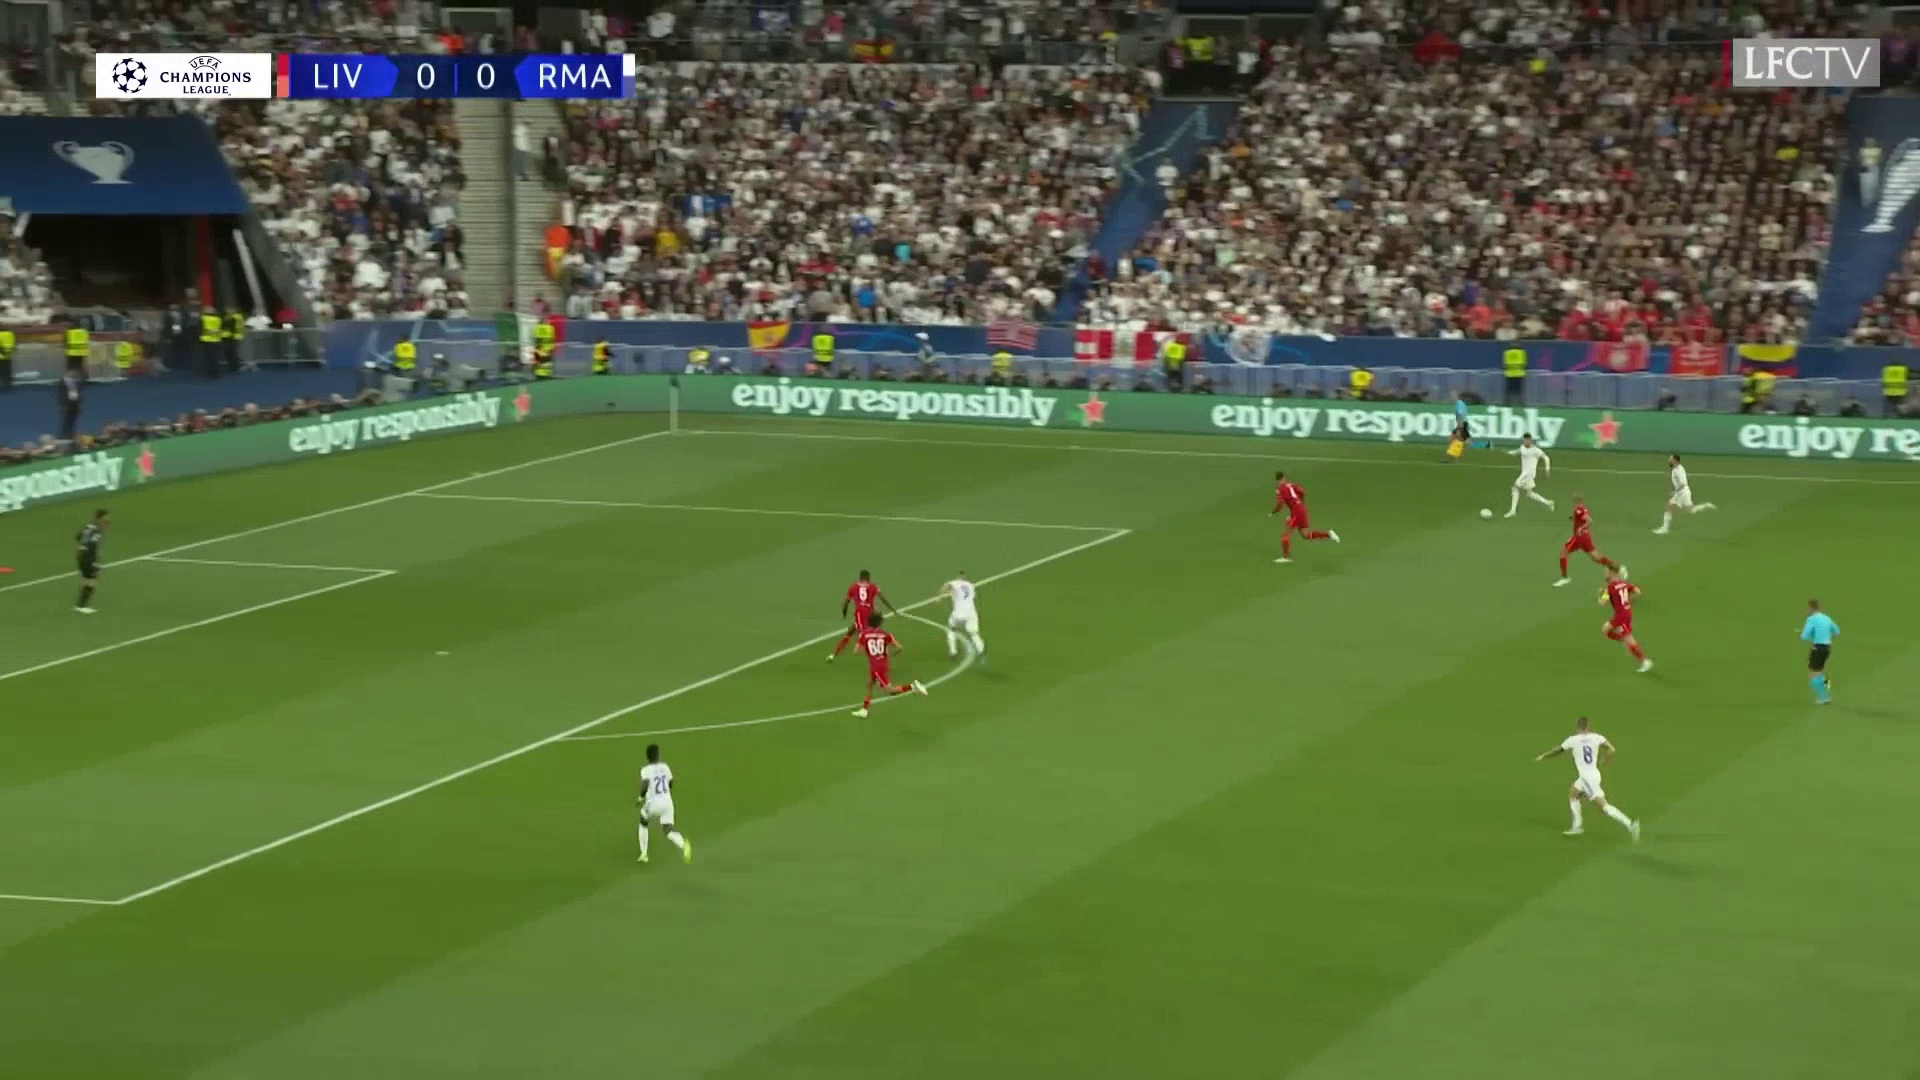ball: (1470, 498, 1498, 526)
player 1: (1500, 429, 1558, 519)
player 12: (69, 496, 127, 618)
player 13: (1256, 468, 1343, 573)
player 14: (856, 614, 912, 726)
player 15: (1567, 494, 1605, 578)
player 16: (832, 567, 888, 647)
player 17: (1601, 560, 1648, 675)
player 2: (1649, 453, 1718, 545)
player 3: (633, 730, 696, 866)
player 4: (937, 567, 993, 662)
player 5: (1526, 709, 1653, 856)
reffree: (1795, 591, 1855, 715)
